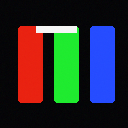3 line_h: (36, 26, 76, 32)
